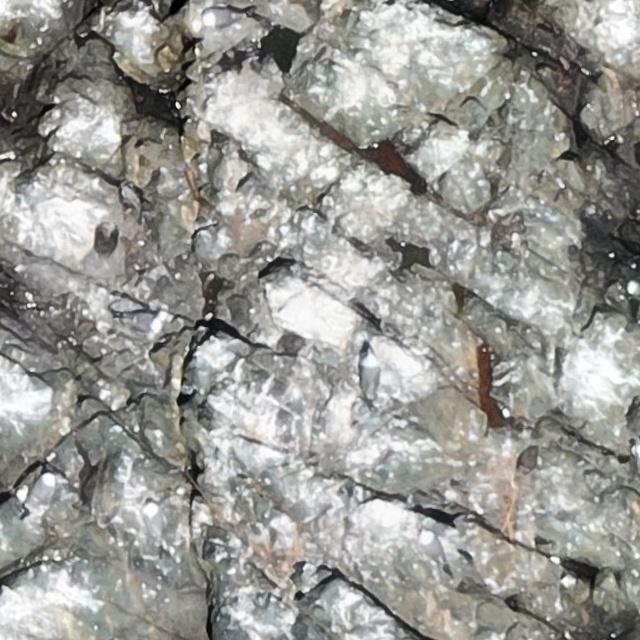umineko: (29, 474, 57, 517), (144, 502, 168, 550), (122, 311, 162, 330), (361, 354, 378, 395), (421, 533, 440, 562), (205, 10, 233, 27), (626, 279, 639, 294)
